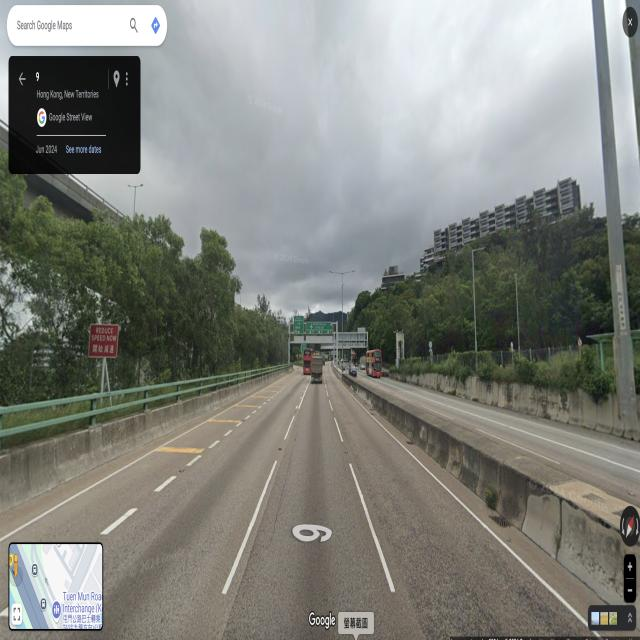Direction-Sign: (306, 322, 333, 334), (294, 316, 304, 334)
Warning-Sign: (90, 324, 118, 356)
